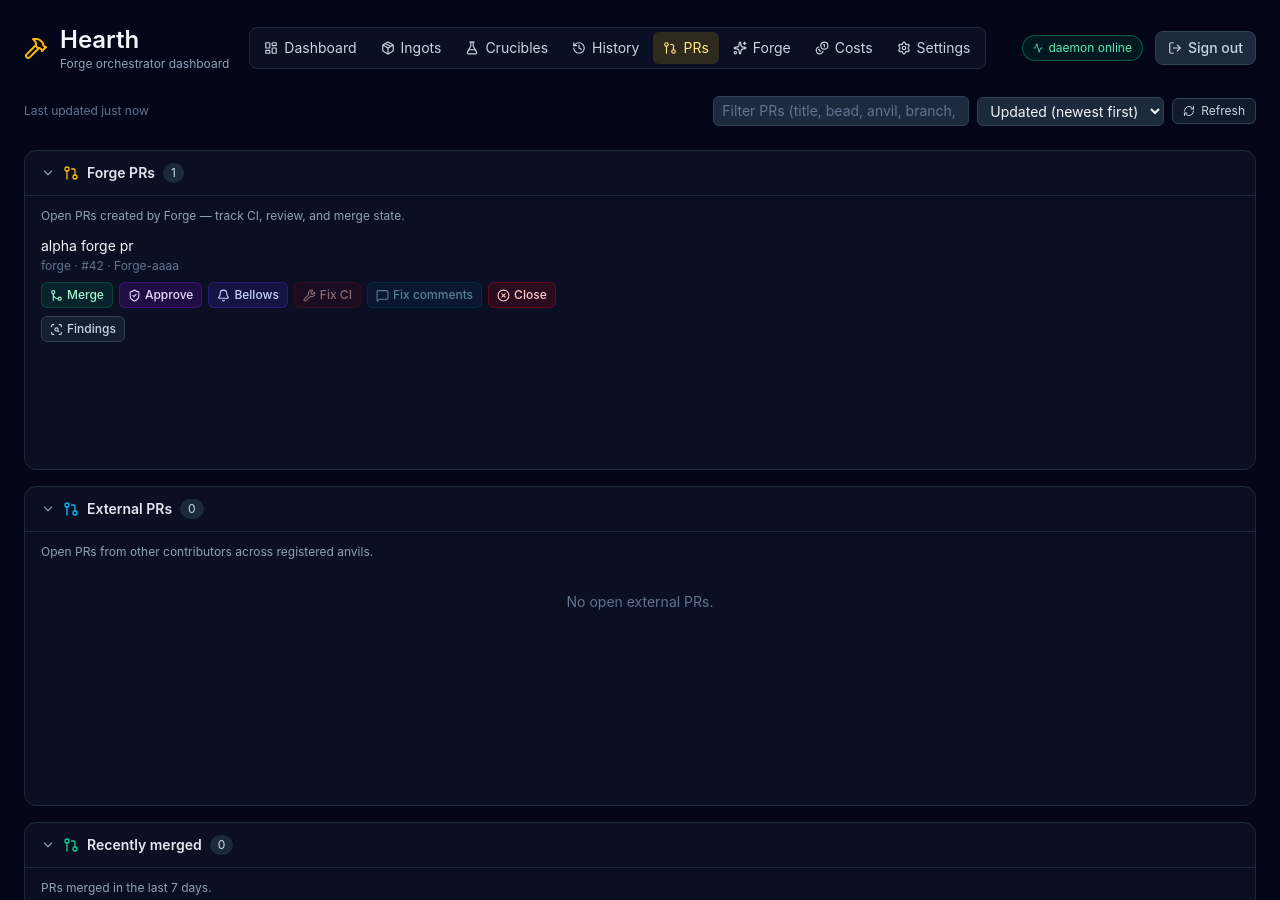
Test: PRsPage Assay findings toggle › reveals the findings panel and loads findings when the toggle is clicked
What coordinates should you click on to do the following:
click the button with test id "pr-findings-toggle-7"
I would click on:
 (83, 329)
Its box is [41, 316, 125, 342].
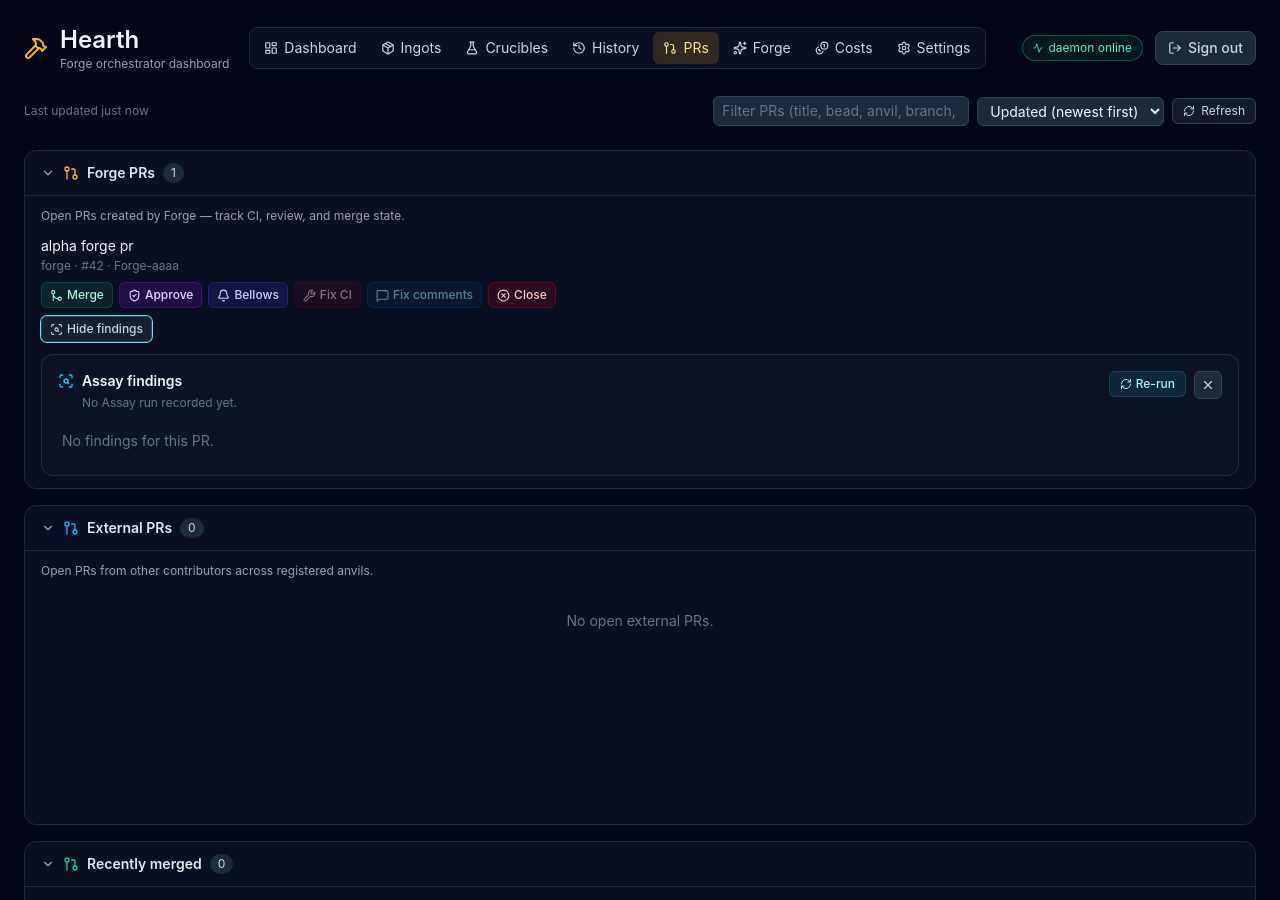
Expected: the element named "Assay findings for PR #42" is shown, [41, 354, 1239, 476]
